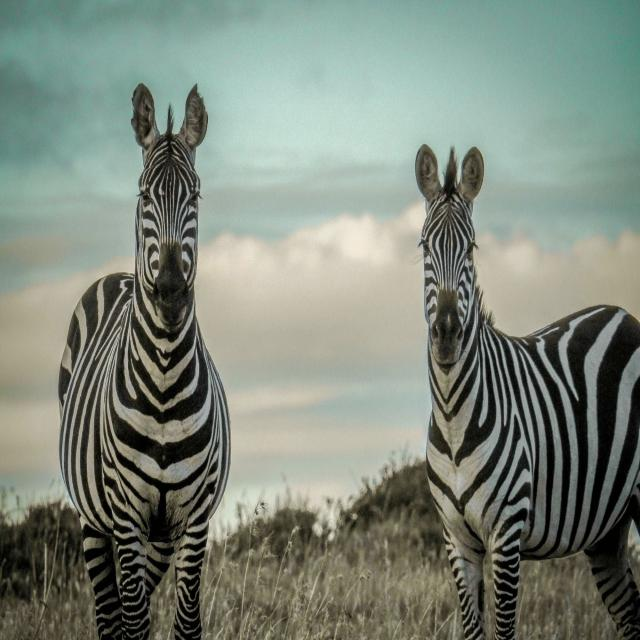zebra: (415, 145, 640, 638), (59, 84, 230, 640)
